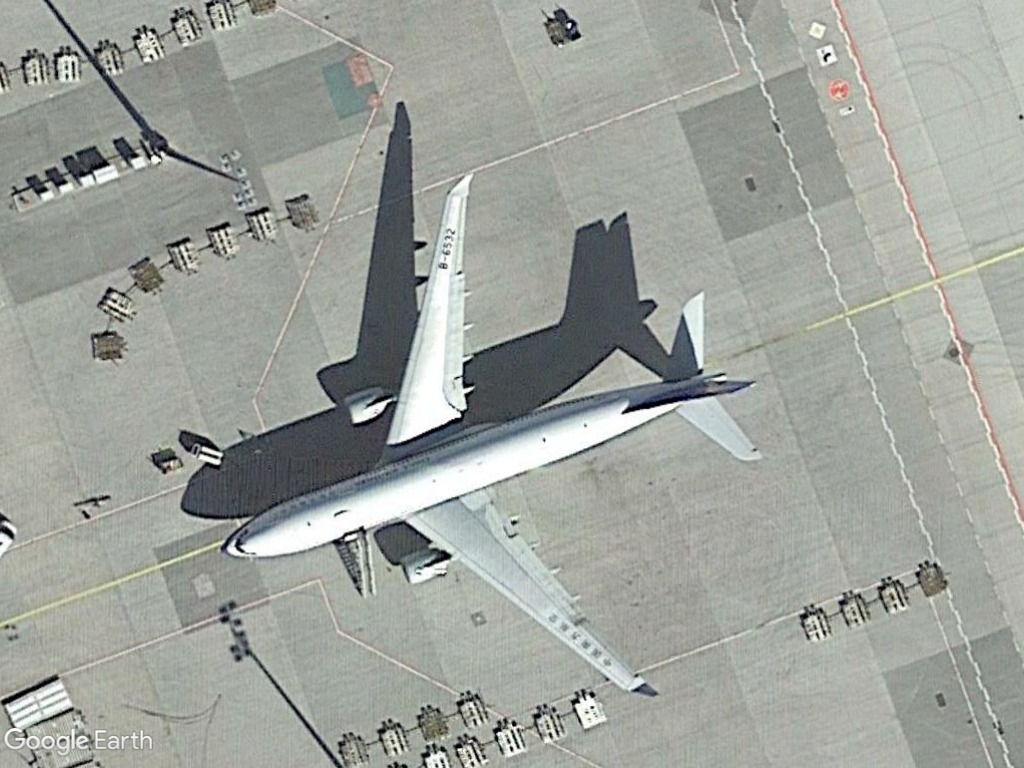airliner: (210, 164, 770, 704)
